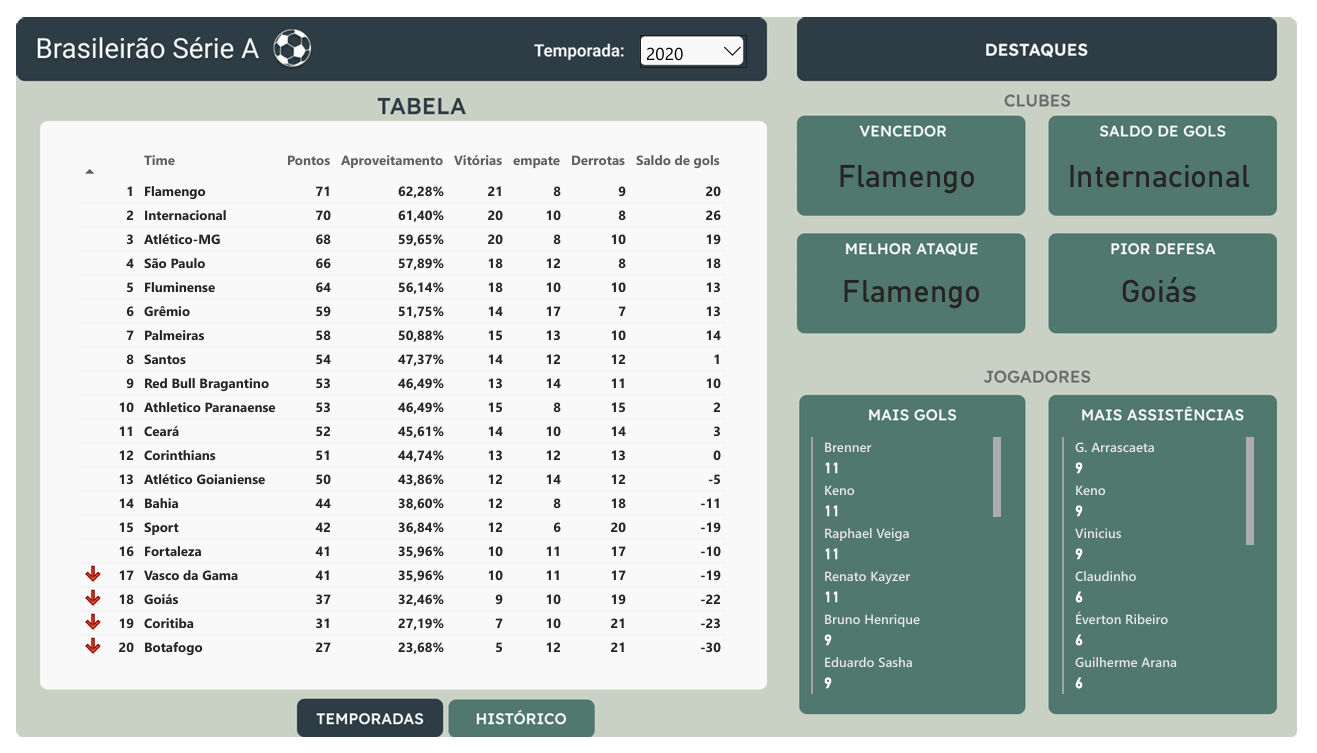

Layout of this report page (visuals, bound fields, positions):
{"tool":"powerbi","page":{"name":"Temporadas","canvas":[1280,720],"ordinal":0},"visuals":[{"type":"slicer","fields":{"Values":["dimAno.Value"]},"box":[618,12,117,41],"z":0},{"type":"tableEx","title":"Classificação","fields":{"Values":["classificacao.Ranking","classificacao.Time","classificacao.Pontos","classificacao.Aproveitamento","classificacao.Vitórias","classificacao.empate","classificacao.Derrotas","classificacao.Saldo de gols"]},"box":[51,114,670,548],"z":1000},{"type":"card","title":"🏆 Vencedor da Edição","fields":{"Values":["classificacao.TimeVencedor"]},"box":[795,114,190,83],"z":2000},{"type":"card","title":"➕ Melhor Saldo de Gols","fields":{"Values":["classificacao.Maior Saldo de Gols"]},"box":[1041,114,202,83],"z":3000},{"type":"card","title":"🔥 Melhor Ataque","fields":{"Values":["classificacao.TimeComMelhorAtaqueAno"]},"box":[799,228,191,85],"z":4000},{"type":"card","title":"🥅 Pior Defesa","fields":{"Values":["classificacao.TimeComPiorDefesaAno"]},"box":[1037,228,210,85],"z":5000},{"type":"multiRowCard","title":"⚽ Gols","fields":{"Values":["info_jogadores.Name","info_jogadores.Gols"]},"box":[790,415,200,266],"z":6000},{"type":"multiRowCard","title":"Assistências","fields":{"Values":["info_jogadores.Name","info_jogadores.Assistencias"]},"box":[1041,415,202,266],"z":7000},{"type":"actionButton","box":[431,680,148,40],"z":7001}]}

Visuals, with their boxes in screenshot pixels (x1, y1, x2, y2), scaled from the page's 1280x720 canvas onto the 1317x753 screenshot:
slicer - dimAno.Value: <box>636,13,756,55</box>
"Classificação" tableEx: <box>52,119,742,692</box>
"🏆 Vencedor da Edição" card: <box>818,119,1013,206</box>
"➕ Melhor Saldo de Gols" card: <box>1071,119,1279,206</box>
"🔥 Melhor Ataque" card: <box>822,238,1019,327</box>
"🥅 Pior Defesa" card: <box>1067,238,1283,327</box>
"⚽ Gols" multiRowCard: <box>813,434,1019,712</box>
"Assistências" multiRowCard: <box>1071,434,1279,712</box>
actionButton: <box>443,711,596,752</box>
